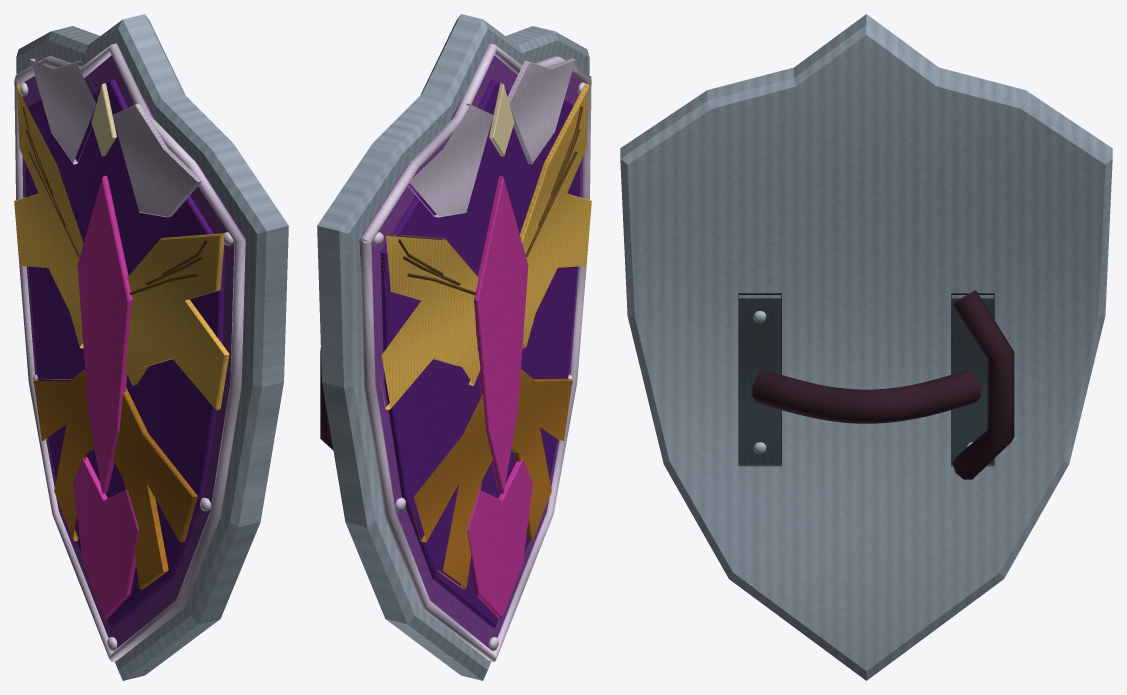
File: divine_shield.glb
3 views of the same model, side by side, from view 1: azimuth 30°, elevation 25°; view 2: azimuth 150°, elevation 25°; view 3: azimuth 270°, elevation 25° (orthographic).
Visible parts, largest first — view 1: Forged silver shield edge, Deep violet heraldic field, Upper cast goddess wing (×2), Lower sweeping gold wing (×2), Continuous lilac rolled edge, Vertical sacred center lozenge, Pale upper crest feather (×2), Raised lavender outer field, Lower heart enamel, Small ivory crest center; view 2: Forged silver shield edge, Deep violet heraldic field, Upper cast goddess wing (×2), Continuous lilac rolled edge, Lower sweeping gold wing (×2), Vertical sacred center lozenge, Pale upper crest feather (×2), Raised lavender outer field, Lower heart enamel, Small ivory crest center, Rear forearm brace; view 3: Forged silver shield edge, Leather strap steel anchor (×2), Arched rear hand strap, Rear forearm brace.
Part boxes in pixels (<box>): Forged silver shield edge: <box>16,14,288,680</box>; Deep violet heraldic field: <box>25,79,225,627</box>; Upper cast goddess wing (×2): <box>14,83,229,409</box>; Lower sweeping gold wing (×2): <box>33,369,197,589</box>; Continuous lilac rolled edge: <box>14,43,245,662</box>; Vertical sacred center lozenge: <box>77,175,132,493</box>; Pale upper crest feather (×2): <box>30,58,201,217</box>; Raised lavender outer field: <box>22,55,246,648</box>; Lower heart enamel: <box>73,456,139,619</box>; Small ivory crest center: <box>91,83,116,156</box>; Forged silver shield edge: <box>317,14,589,680</box>; Deep violet heraldic field: <box>380,79,580,627</box>; Upper cast goddess wing (×2): <box>377,83,591,409</box>; Continuous lilac rolled edge: <box>360,43,591,662</box>; Lower sweeping gold wing (×2): <box>409,369,572,589</box>; Vertical sacred center lozenge: <box>474,175,528,493</box>; Pale upper crest feather (×2): <box>404,58,575,217</box>; Raised lavender outer field: <box>359,55,584,648</box>; Lower heart enamel: <box>467,457,532,619</box>; Small ivory crest center: <box>489,83,514,156</box>; Rear forearm brace: <box>320,348,333,450</box>; Forged silver shield edge: <box>620,14,1112,680</box>; Leather strap steel anchor (×2): <box>738,293,994,466</box>; Arched rear hand strap: <box>752,369,980,423</box>; Rear forearm brace: <box>952,290,1014,479</box>.
Size of the model in its own units: 15.21 by 67.99 by 46.24.
Materials: 11 (11 with a texture image).
